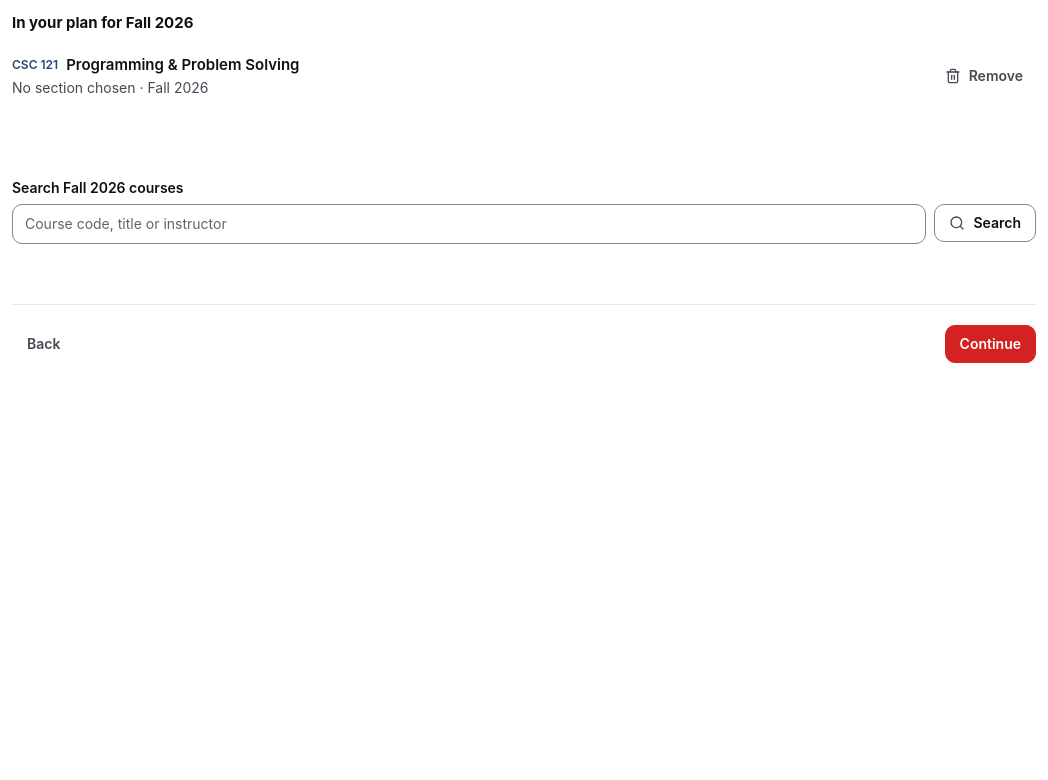
Scenario: ClassesStep (step 2) › updates the item already in the term: its CRN and a planned status (a re-run or a legacy plan)
Check: the text "No section chosen · Fall 2026" is shown, box [12,79,208,96]
In the search field labelled "Search Fall 2026 courses": (469,224) [12,204,926,244], type "CSC 121"
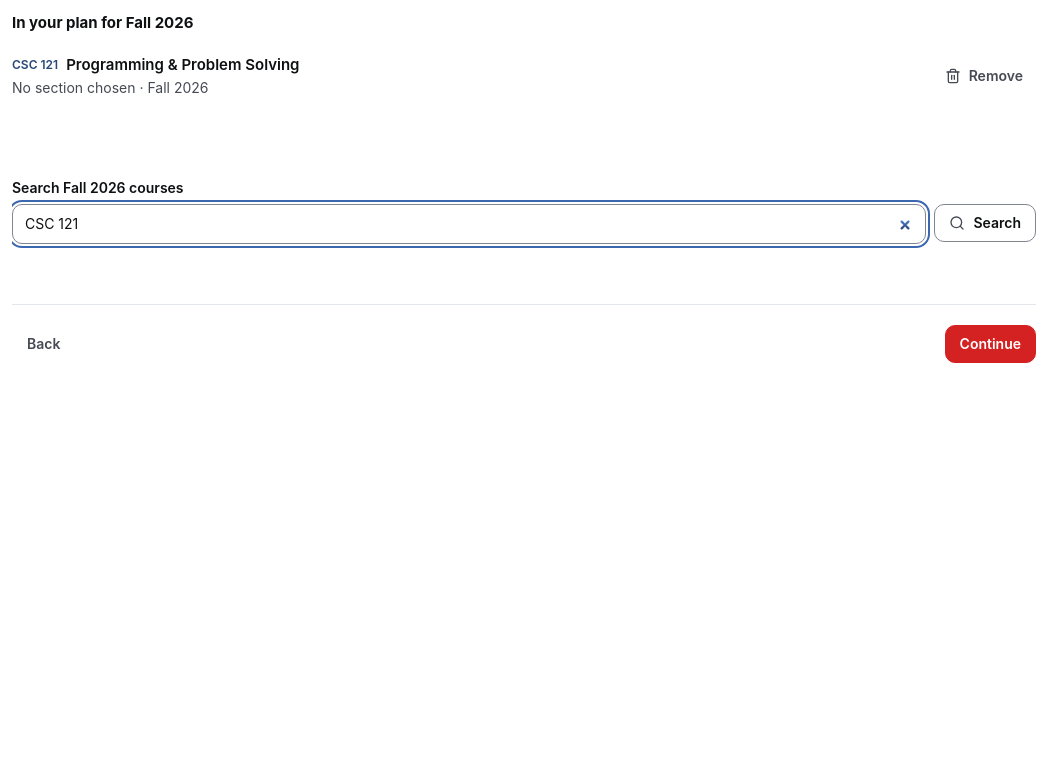
Click the button "Search": (985,223) [934,204,1036,242]
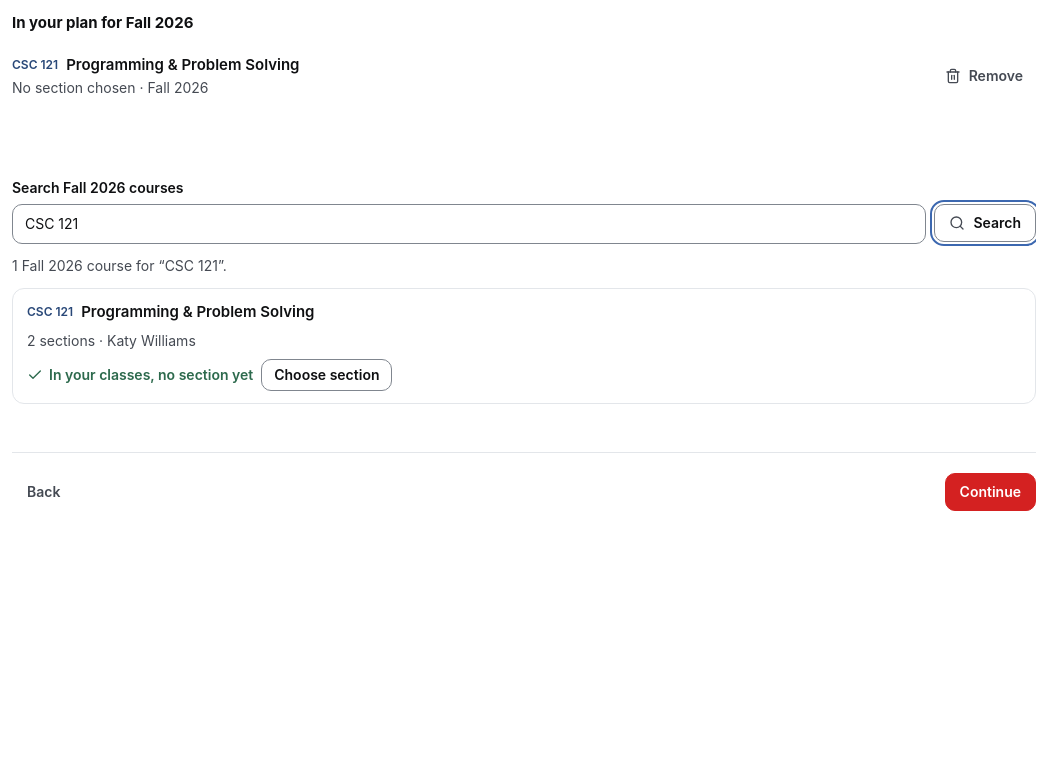
Check: the text "In your classes, no section yet" is shown, box [27,364,253,384]
Click the button with aria-label "Choose section for CSC 121": (327,374) [261,358,392,390]
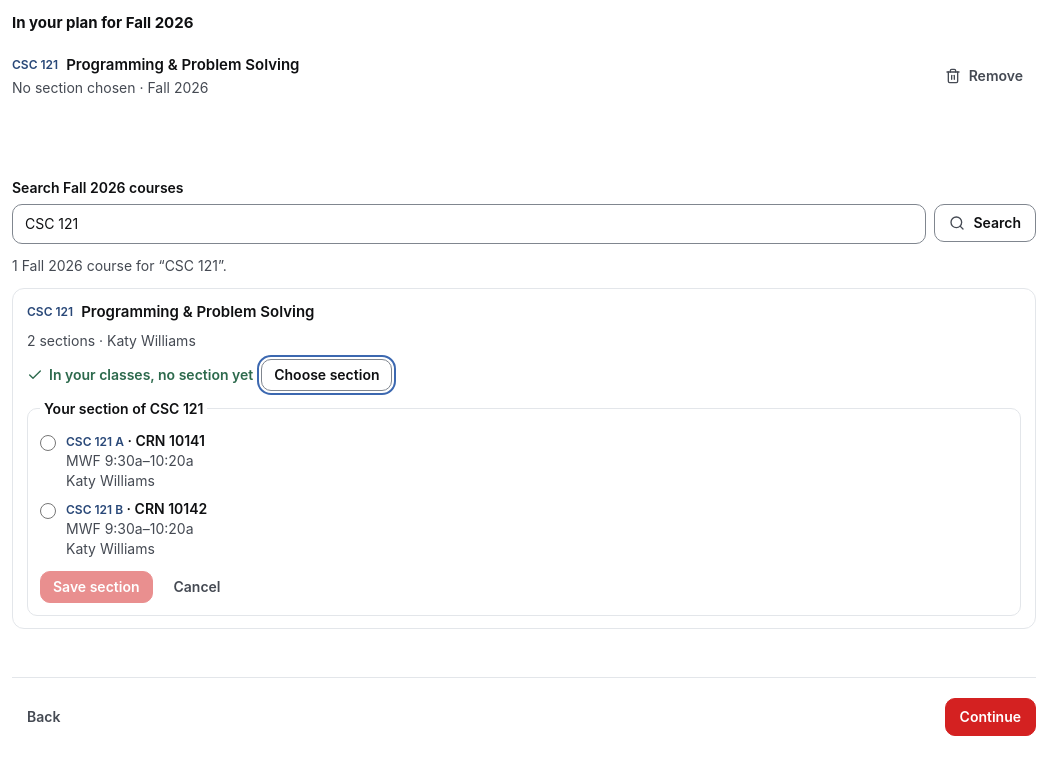
Click the radio button labelled "CSC 121 A · CRN 10141 MWF 9:30a–10:20a Katy Williams": (48,442) [40,434,56,450]
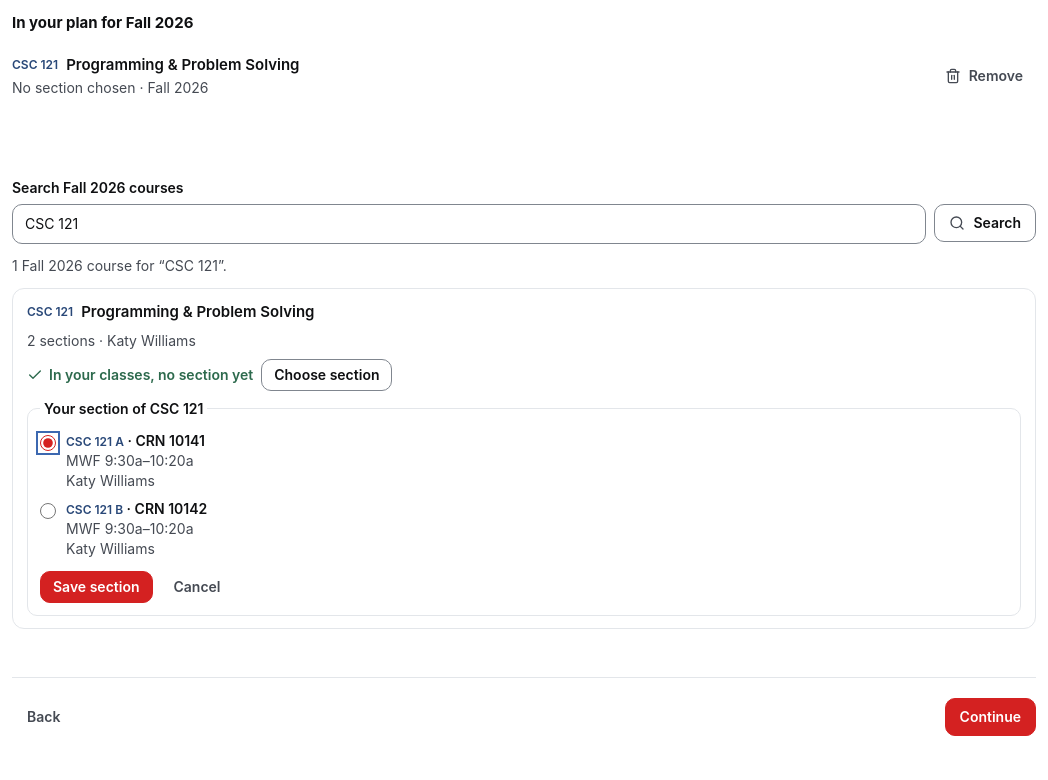
Click the button "Save section": (96,586) [40,570,152,602]
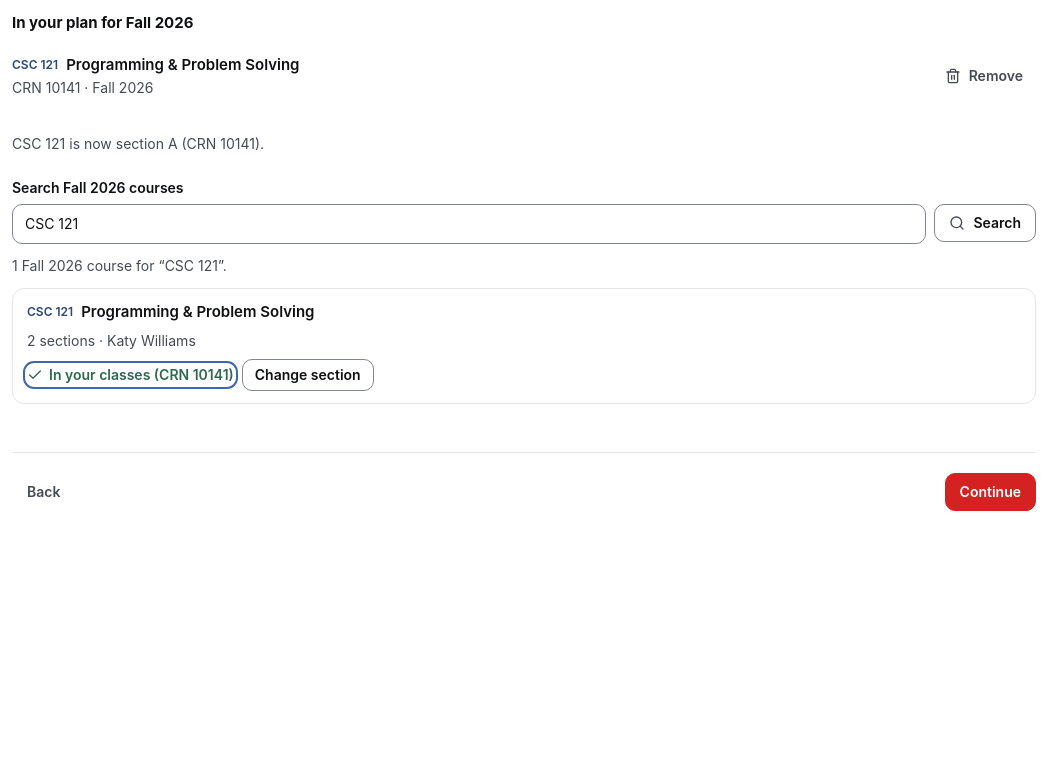
Check: the text "CSC 121 is now section A (CRN 10141)." is shown, box [12,135,264,152]
Check: the text "In your classes, no section yet" reads "In your classes (CRN 10141)", box [27,364,234,384]
